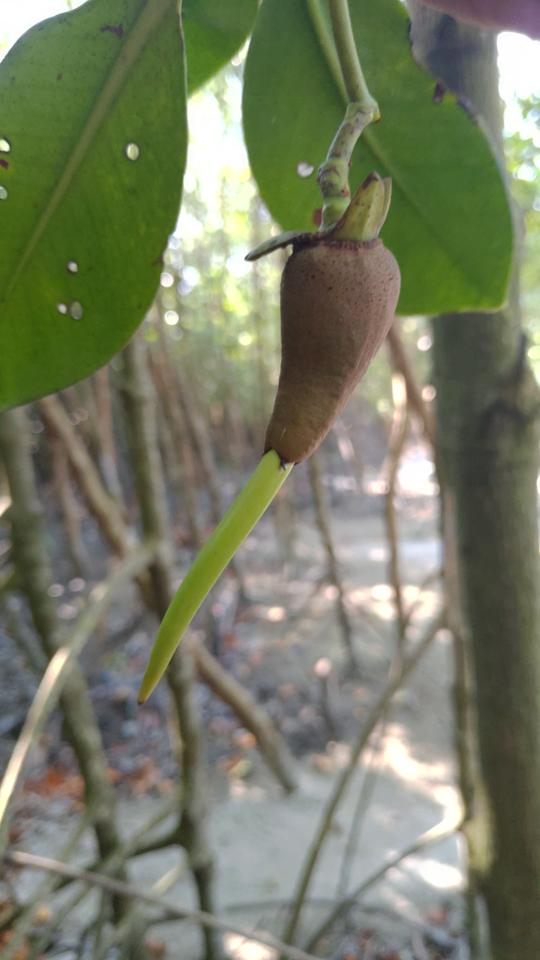mentah: (117, 171, 412, 715)
